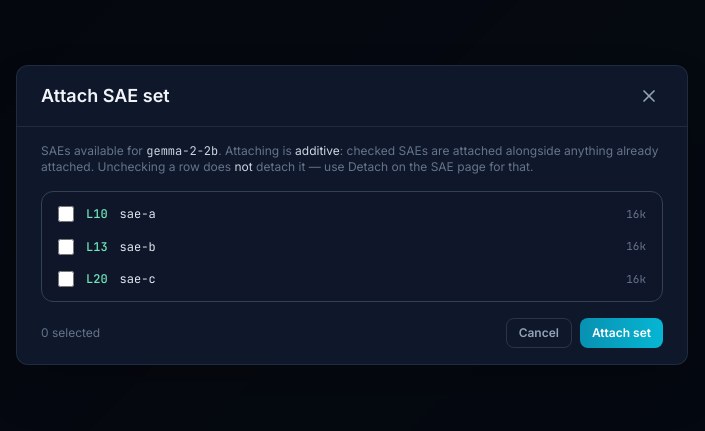
Test: AttachSetDialog › flags an over-envelope VRAM result
Click the button with test id "attach-set-submit".
click(621, 333)  # box [580,318,663,348]
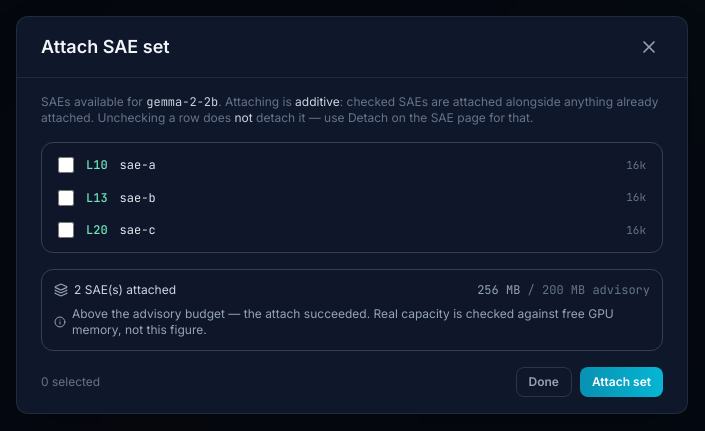
Result: the element with test id "result-vram-warning" is shown at [54,306,650,338]
Result: the element with test id "result-vram" shows "256 MB" at [477,282,650,298]
